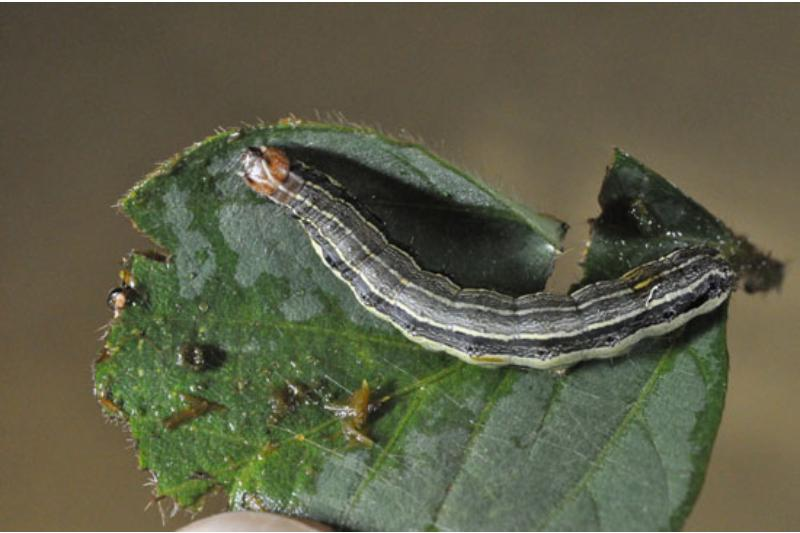fall-armyworm: (244, 146, 740, 371)
